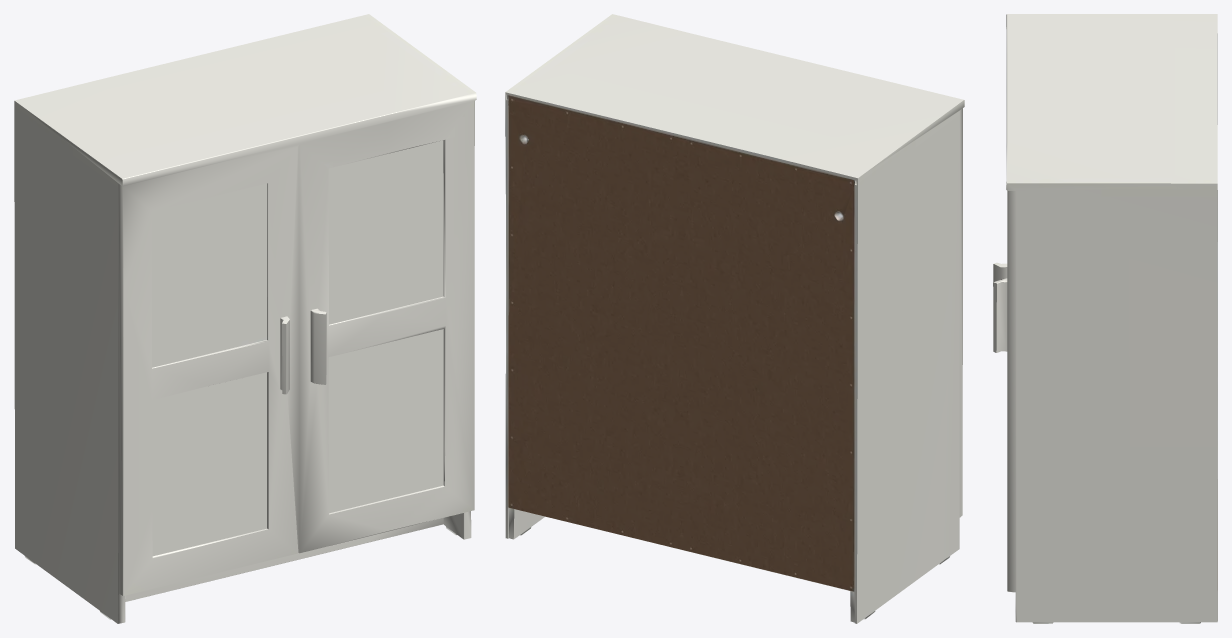
Rendered from 61 - BRIMNES - 附門收納櫃, 白色, 78x95 公分 IKEA 線上購物.glb.
3 renders of one model, left to right at view 1: azimuth 30°, elevation 25°; view 2: azimuth 150°, elevation 25°; view 3: azimuth 270°, elevation 25°, orthographic. The views are drawn at different scales.
Parts seen in each view (by area): view 1: ProcessedMeshNode; view 2: ProcessedMeshNode; view 3: ProcessedMeshNode.
Boxes of the visible parts, bbox=[...] form: ProcessedMeshNode: bbox=[14, 14, 476, 623]; ProcessedMeshNode: bbox=[505, 14, 964, 623]; ProcessedMeshNode: bbox=[993, 14, 1217, 623].
Bounding box in the file's own units: 0.7833 × 0.9516 × 0.4388.
1 material, 1 textured.
